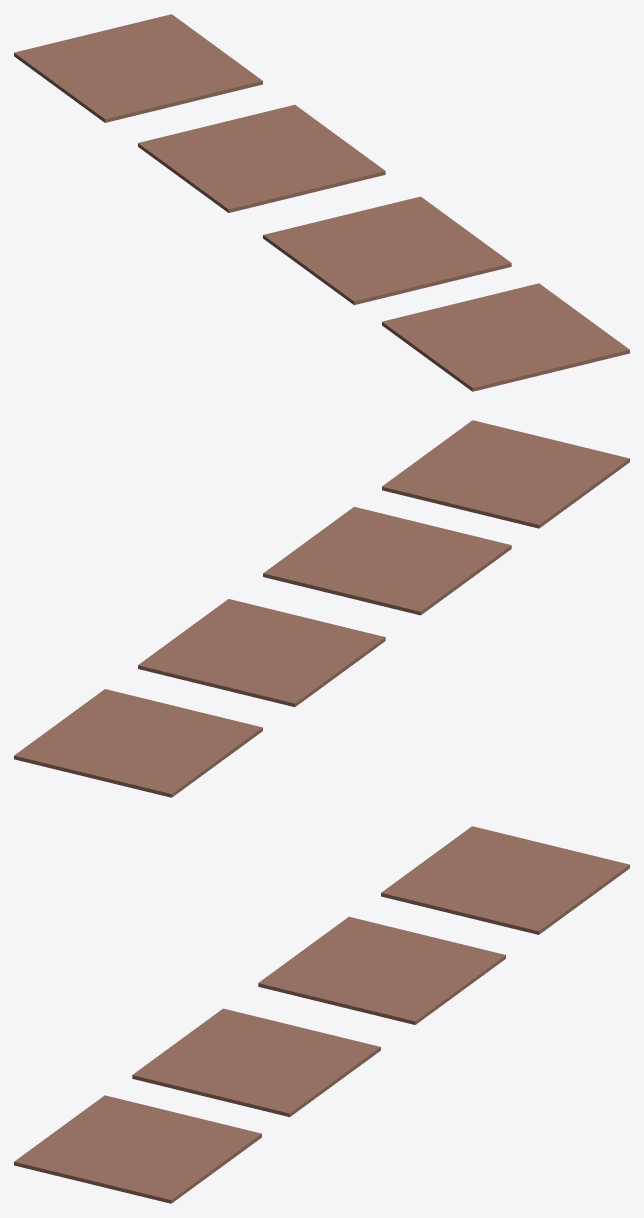
File: HERBE.fbx
3 views of the same model, one above another, from view 1: azimuth 30°, elevation 25°; view 2: azimuth 150°, elevation 25°; view 3: azimuth 330°, elevation 25° (orthographic).
Visible parts, largest first — view 1: Cube.003, Cube.001, Cube, Cube.002; view 2: Cube.003, Cube.001, Cube, Cube.002; view 3: Cube.003, Cube.001, Cube, Cube.002.
Part boxes in pixels (bbox=[...]): Cube.003: bbox=[14, 14, 262, 122]; Cube.001: bbox=[263, 196, 511, 305]; Cube: bbox=[382, 283, 629, 391]; Cube.002: bbox=[138, 104, 385, 212]; Cube.003: bbox=[14, 689, 262, 797]; Cube.001: bbox=[263, 506, 511, 615]; Cube: bbox=[382, 420, 629, 528]; Cube.002: bbox=[138, 599, 385, 707]; Cube.003: bbox=[381, 826, 629, 934]; Cube.001: bbox=[132, 1008, 380, 1117]; Cube: bbox=[14, 1095, 261, 1203]; Cube.002: bbox=[258, 916, 505, 1024].
Bounding box in the file's own units: 747 × 16.71 × 3759.
